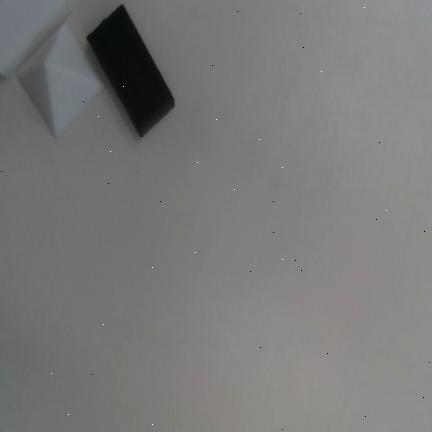Paralelepipedo: (86, 3, 175, 139), (1, 1, 72, 78)
Piramide: (15, 18, 105, 141)
